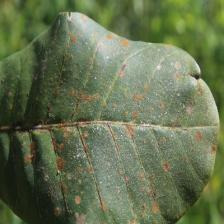red rust: (0, 11, 220, 224)
